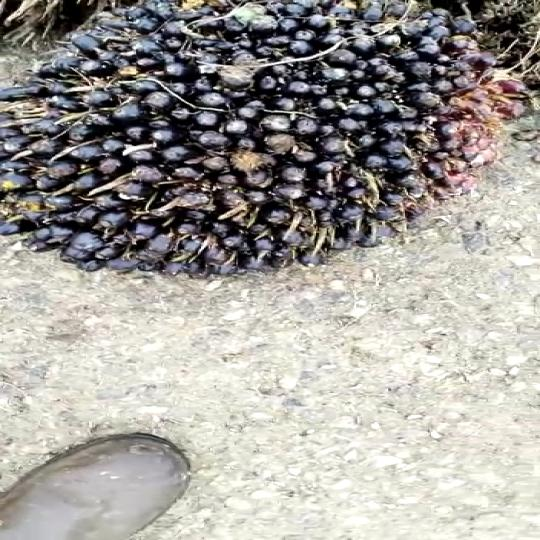mentah: (13, 0, 538, 273)
